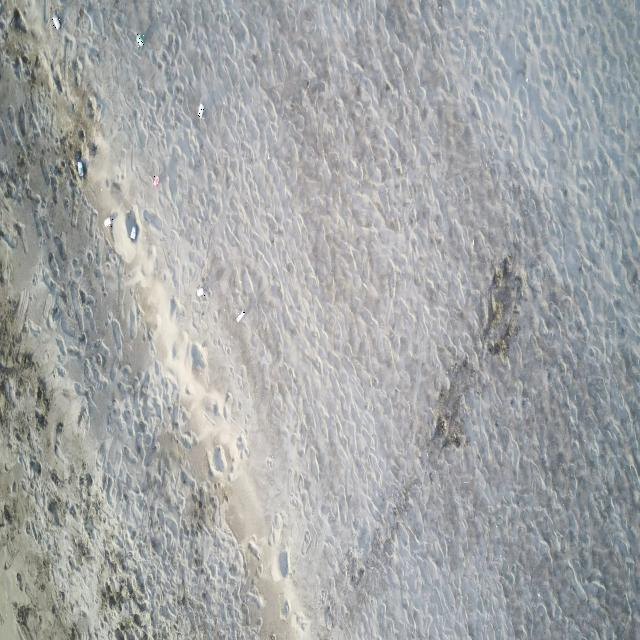Garbage: (9, 8, 26, 32), (124, 213, 139, 240), (128, 224, 136, 240), (51, 13, 59, 28), (76, 160, 83, 176), (236, 310, 243, 322), (196, 104, 203, 116), (103, 216, 111, 226), (136, 33, 143, 44), (196, 287, 203, 296), (152, 176, 158, 186)
